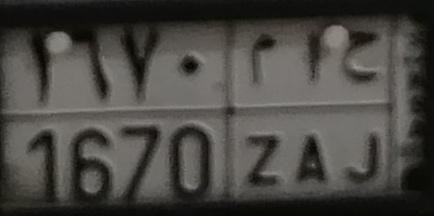0: (168, 53, 218, 202)
1: (23, 26, 62, 216)
6: (65, 24, 115, 206)
7: (115, 25, 170, 204)
A: (294, 29, 335, 186)
J: (341, 28, 392, 186)
Z: (240, 33, 288, 186)
